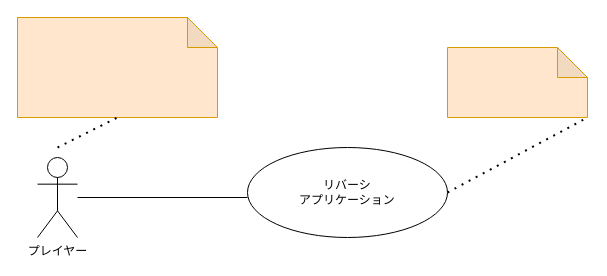
Image size: 607x276. Some labels were removed from this diagram. Here are the shapes that lost their labels. From the top down, the centre of each, then its label:
the point at 117,67: 1人で黒白交互に 打つ
the point at 517,82: Webアプリ
